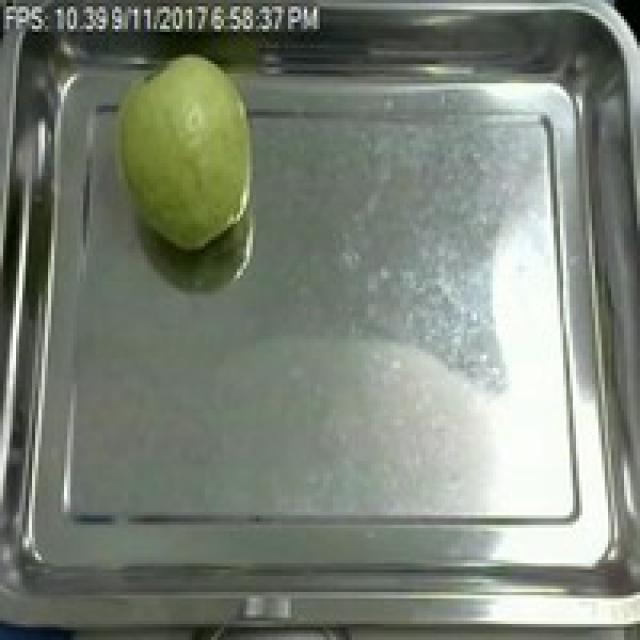Fruit: (42, 45, 266, 259)
